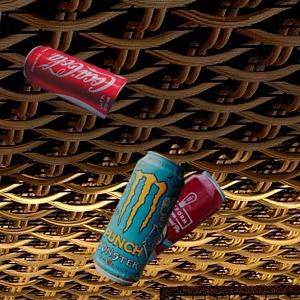can: (25, 45, 131, 121)
